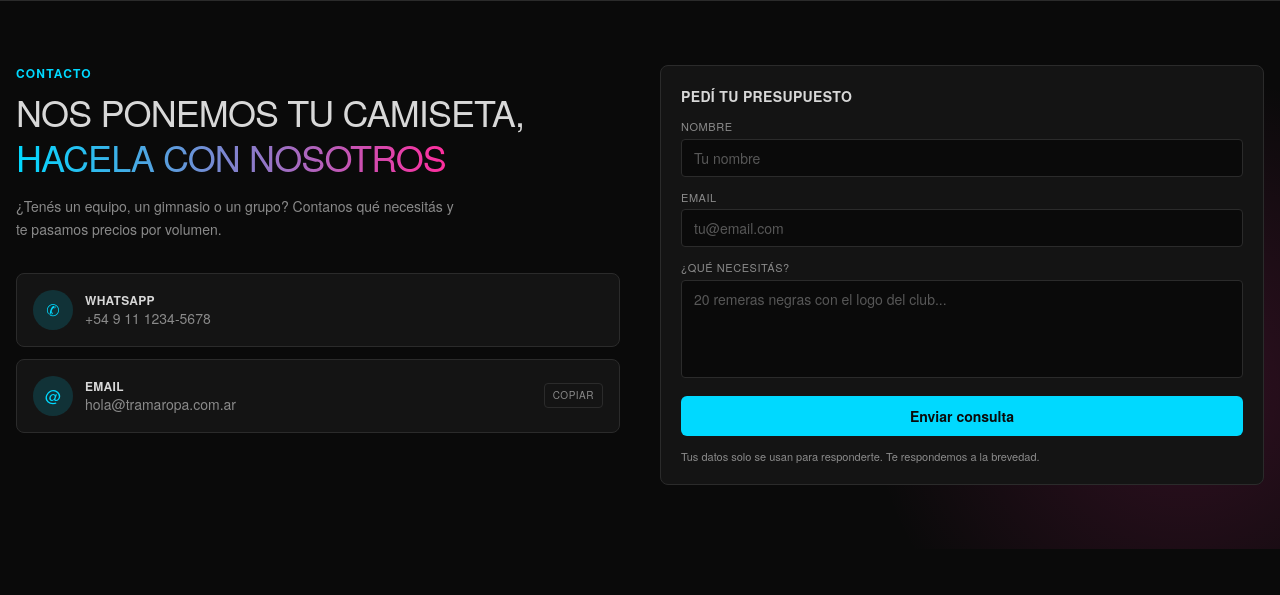
Contact › envía el formulario a Web3Forms y muestra confirmación
This screenshot has width=1280, height=595.
In the field labelled "Nombre": (962, 158) [681,138,1243,176], type "Juan"
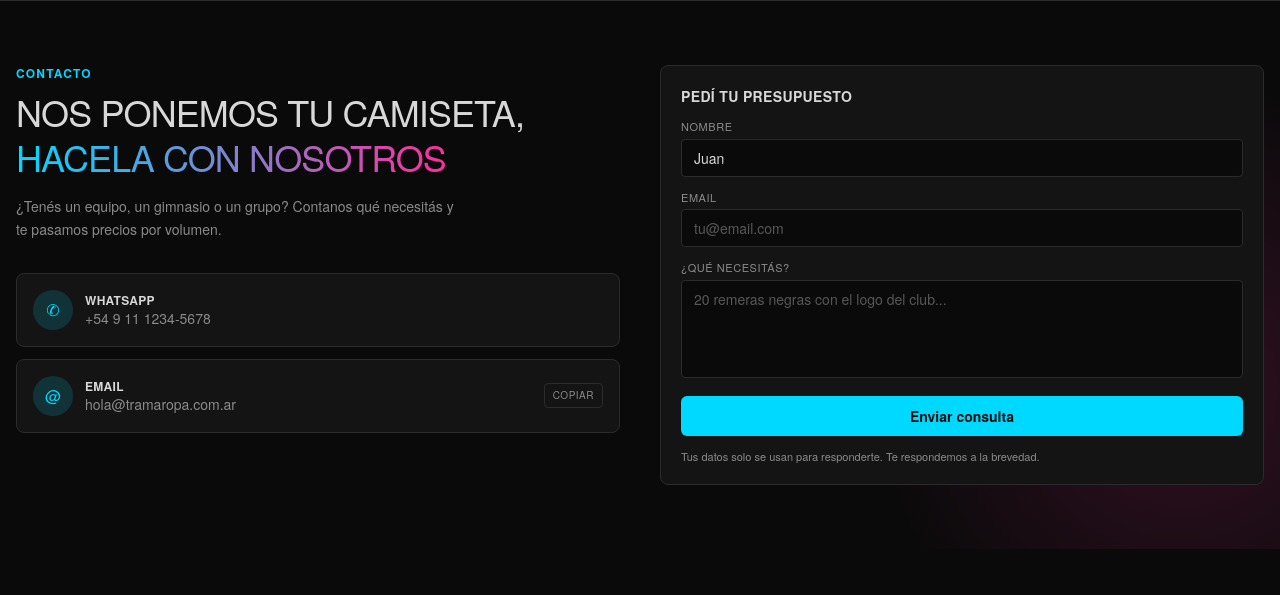
In the field labelled "Email": (962, 228) [681,209,1243,247], type "juan@test.com"
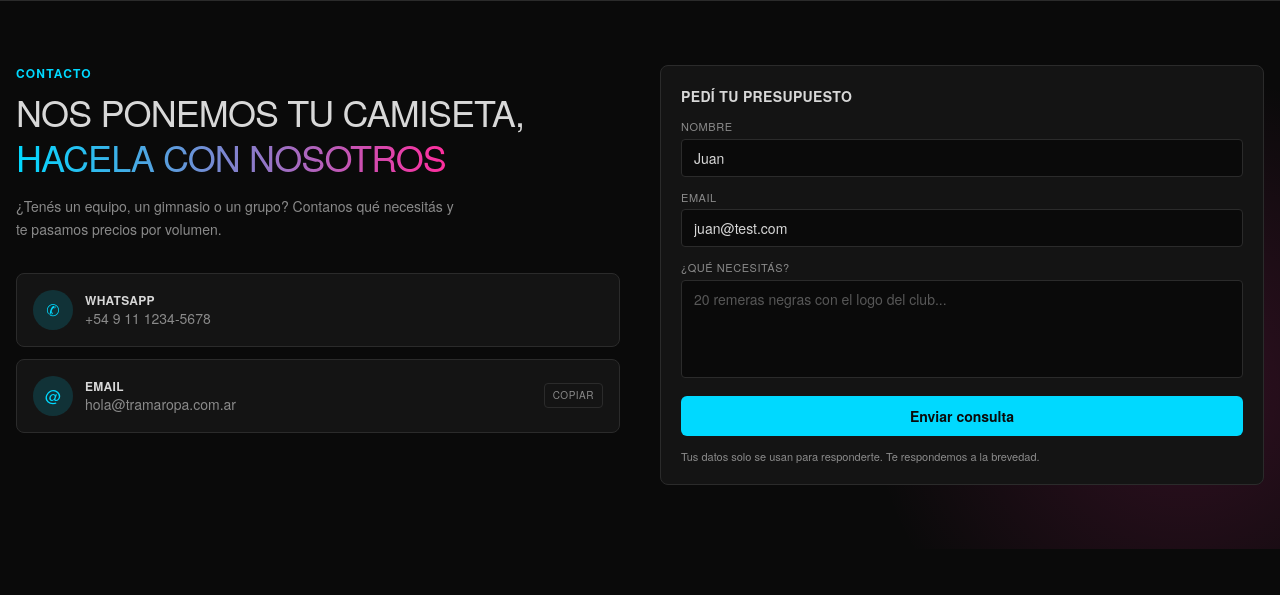
In the text box labelled "¿Qué necesitás?": (962, 328) [681,280,1243,378], type "20 remeras"
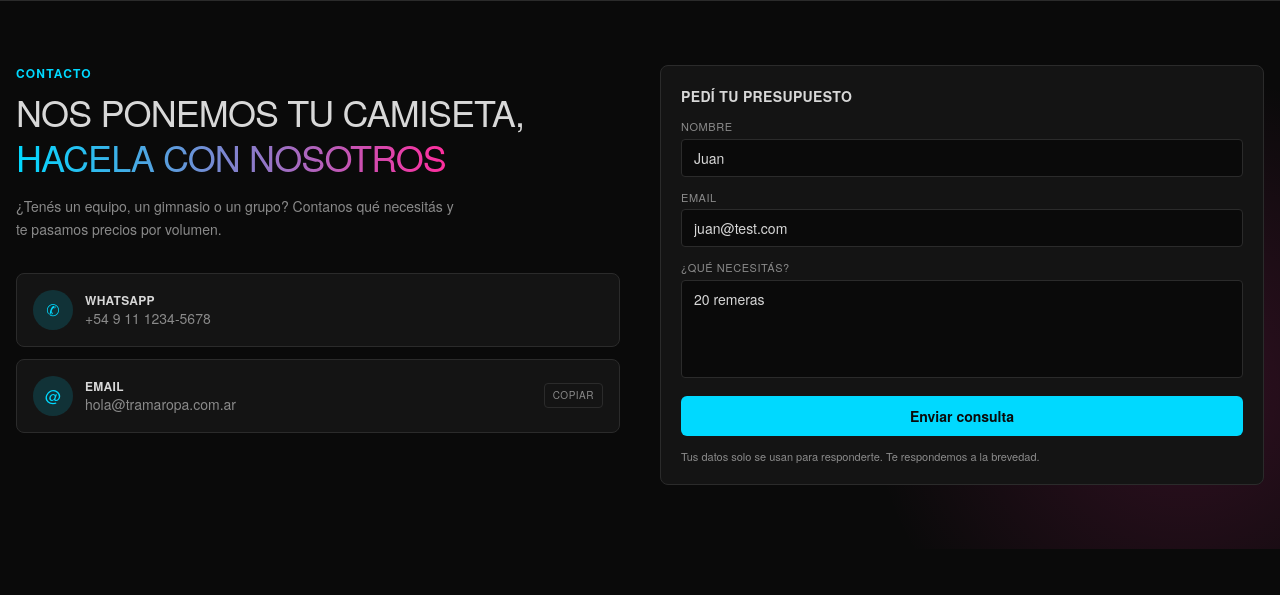
Click the button "Enviar consulta": (962, 416) [681,396,1243,436]
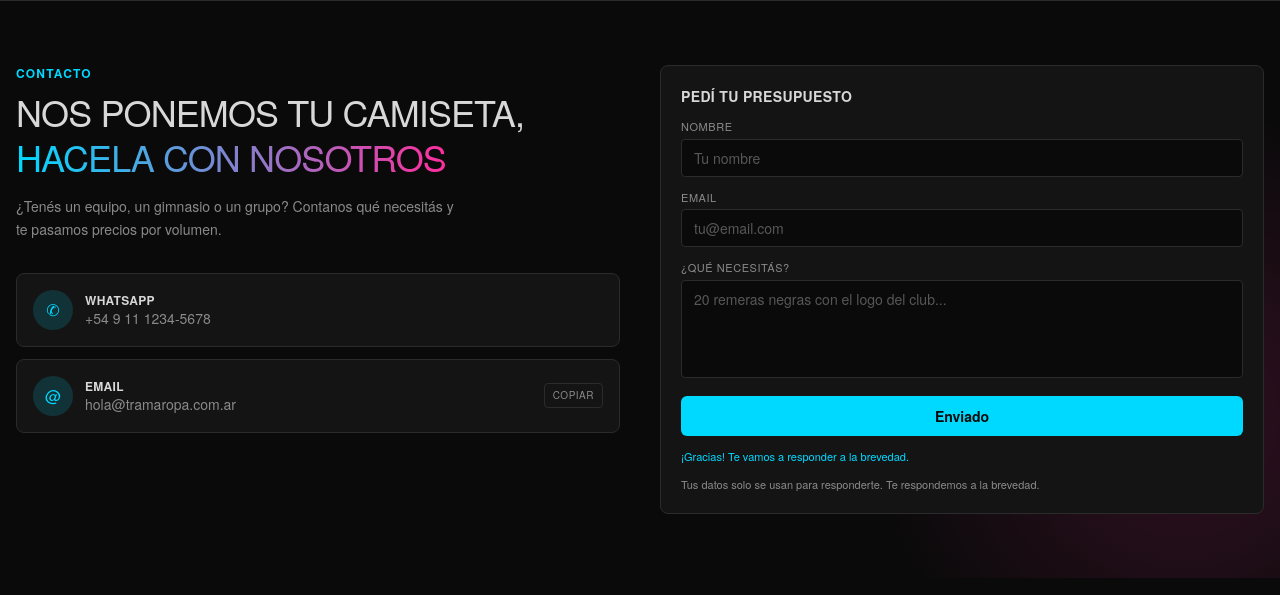
Expected: the message shows "¡Gracias!", [681,448,909,464]
